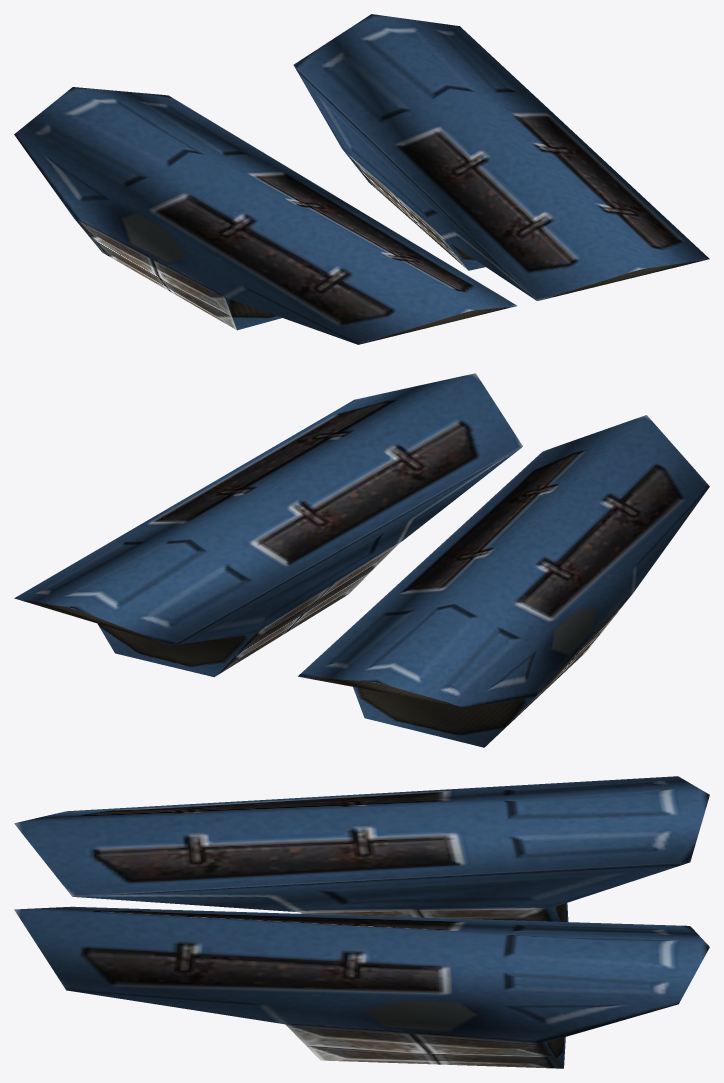
Rendered from ArmPads5__LED.glb.
3 renders of one model, top to bottom at view 1: azimuth 30°, elevation 25°; view 2: azimuth 150°, elevation 25°; view 3: azimuth 270°, elevation 25°, orthographic. The views are drawn at different scales.
Visible parts, largest first — view 1: ArmPads5; view 2: ArmPads5; view 3: ArmPads5.
Boxes of the visible parts, x1,y1,x2,y2 form: ArmPads5: (14, 14, 709, 344); ArmPads5: (14, 373, 709, 747); ArmPads5: (14, 776, 709, 1068).
Size of the model in its own units: 15.84 by 3.67 by 20.13.
1 material, 1 textured.
